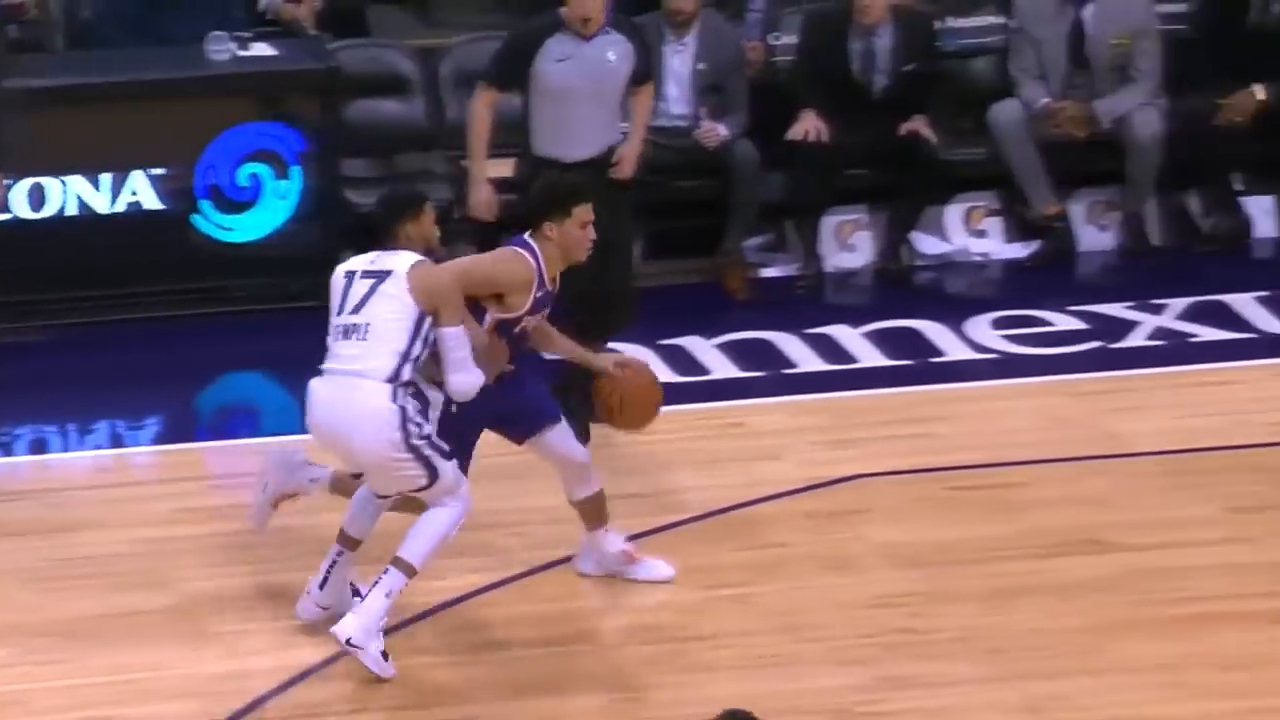ball: (592, 366, 665, 431)
